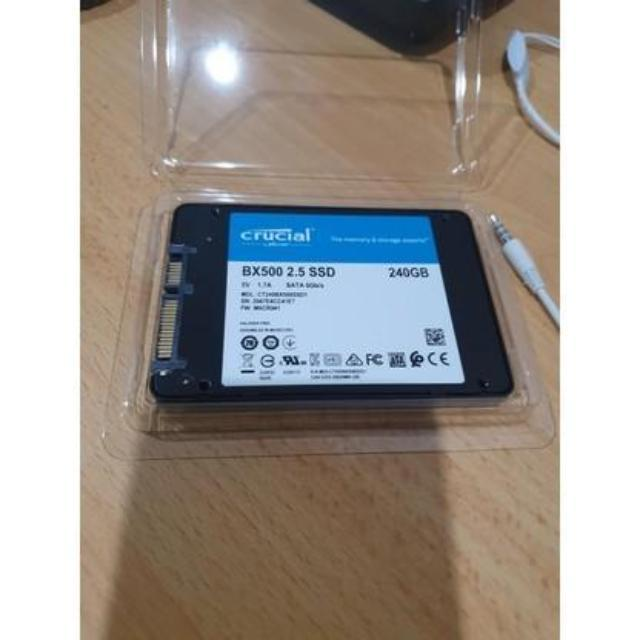DISK: (150, 195, 516, 412)
